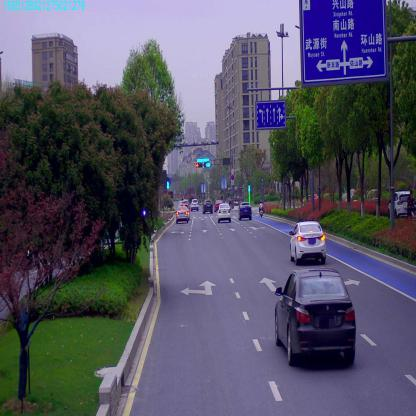traffic-light: (196, 158, 208, 161), (204, 162, 210, 168), (196, 162, 201, 167)
